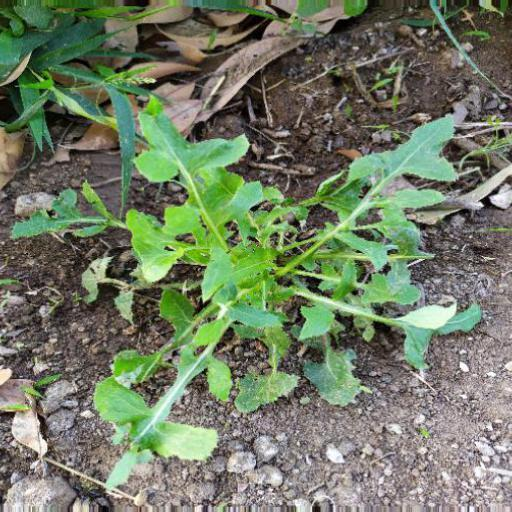weed: (58, 108, 478, 474)
